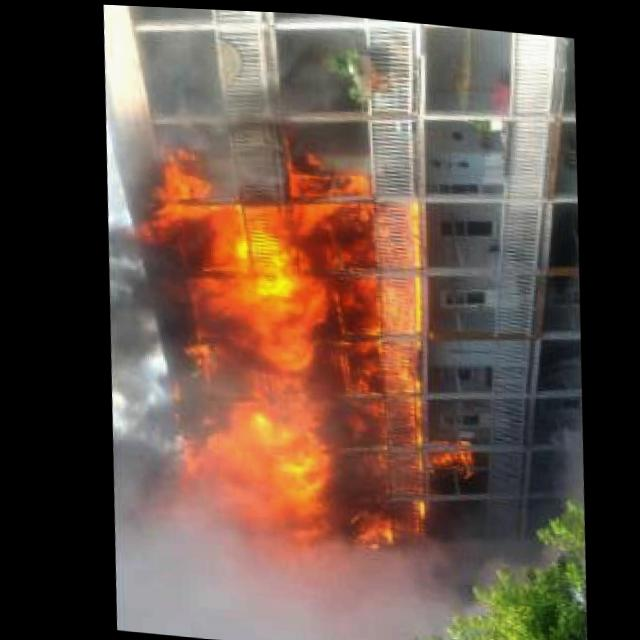helmet: (161, 173, 342, 540), (326, 170, 444, 556), (95, 11, 359, 179), (269, 508, 547, 640), (290, 306, 370, 545), (126, 139, 207, 244), (529, 402, 580, 519), (408, 431, 481, 493)
no_helmet: (88, 233, 189, 497)
